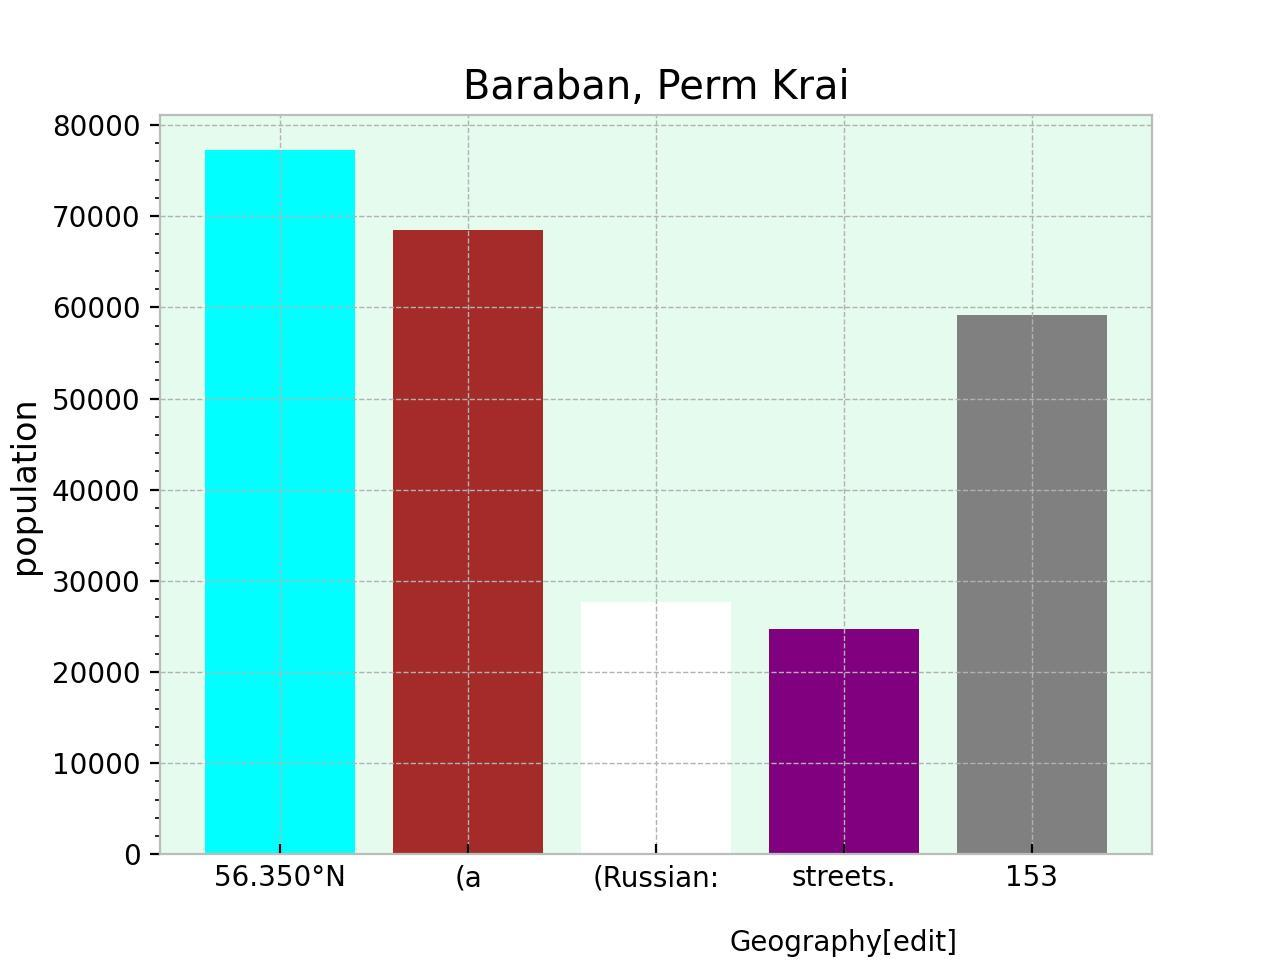axis: (7, 114, 140, 871)
rectangle: (205, 150, 355, 854), (393, 231, 543, 854), (957, 315, 1107, 854), (581, 602, 731, 854), (769, 628, 919, 854)
